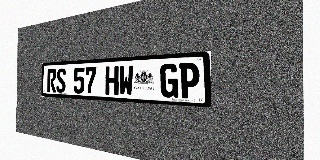5: (74, 67, 85, 94)
7: (85, 67, 96, 94)
G: (160, 63, 178, 98)
H: (105, 66, 119, 95)
P: (179, 62, 199, 99)
R: (47, 69, 56, 92)
S: (56, 68, 66, 93)
W: (119, 65, 134, 96)
